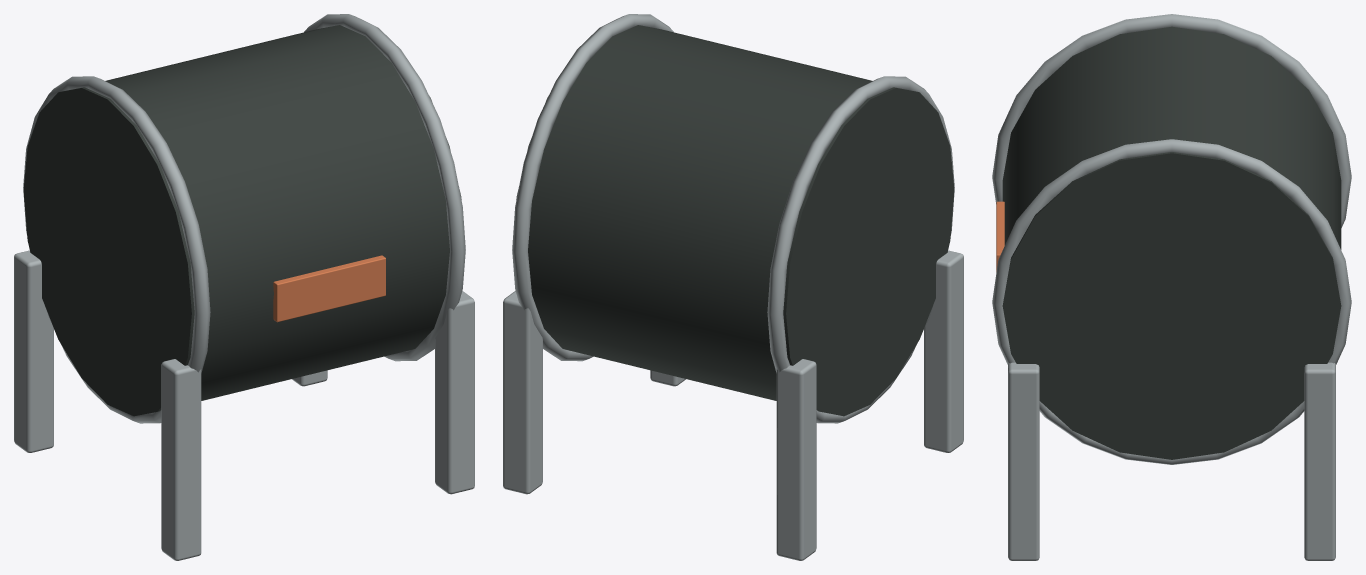
Rendered from survival-greenhouse-and-irrigation-tumbling-composter-9f6eaa0b__21338.glb.
The picture shows the model from 3 angles, left to right: view 1: azimuth 30°, elevation 25°; view 2: azimuth 150°, elevation 25°; view 3: azimuth 270°, elevation 25°; orthographic projection.
Parts seen in each view (by area): view 1: tumbling-composter; view 2: tumbling-composter; view 3: tumbling-composter.
Part boxes in pixels (x1=…): tumbling-composter: x1=14, y1=14, x2=474, y2=560; tumbling-composter: x1=503, y1=14, x2=963, y2=560; tumbling-composter: x1=992, y1=14, x2=1351, y2=560.
Bounding box in the file's own units: 0.825 × 1.08 × 0.8501.
